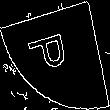P_E: (31, 31, 79, 79)
